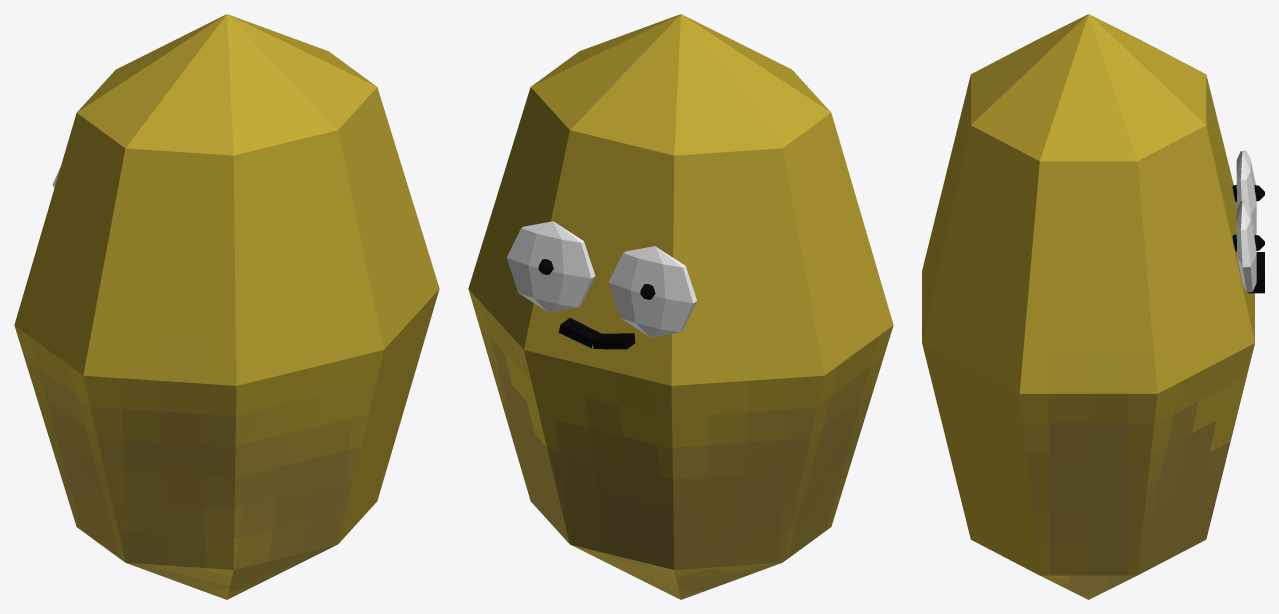
The model's file is wall-nut.gltf.
3 renders of one model, left to right at view 1: azimuth 30°, elevation 25°; view 2: azimuth 150°, elevation 25°; view 3: azimuth 270°, elevation 25°, orthographic.
Parts seen in each view (by area): view 1: sphere; view 2: sphere (×3), cube (×2); view 3: sphere (×3).
Part boxes in pixels (<box>): sphere: <box>14,14,439,599</box>; sphere (×3): <box>468,14,893,599</box>; cube (×2): <box>558,318,635,349</box>; sphere (×3): <box>922,14,1256,599</box>.
Bounding box in the file's own units: 0.6562 × 1.03 × 0.5469.
3 materials, 3 textured.
